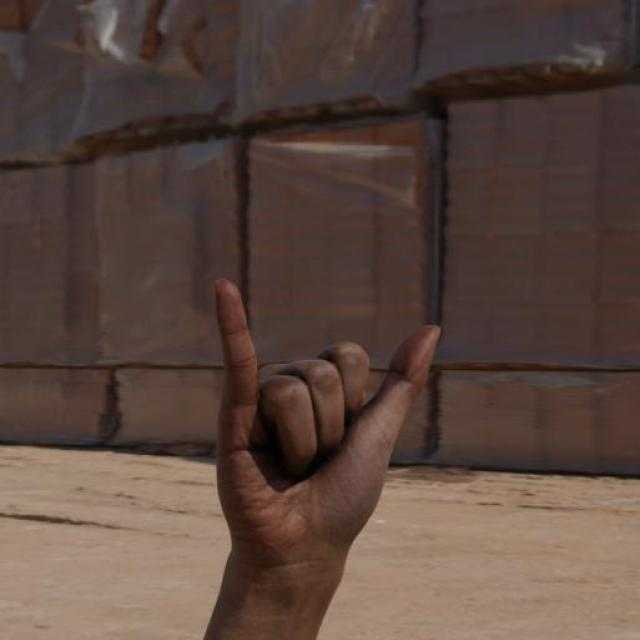Y: (180, 256, 465, 600)
